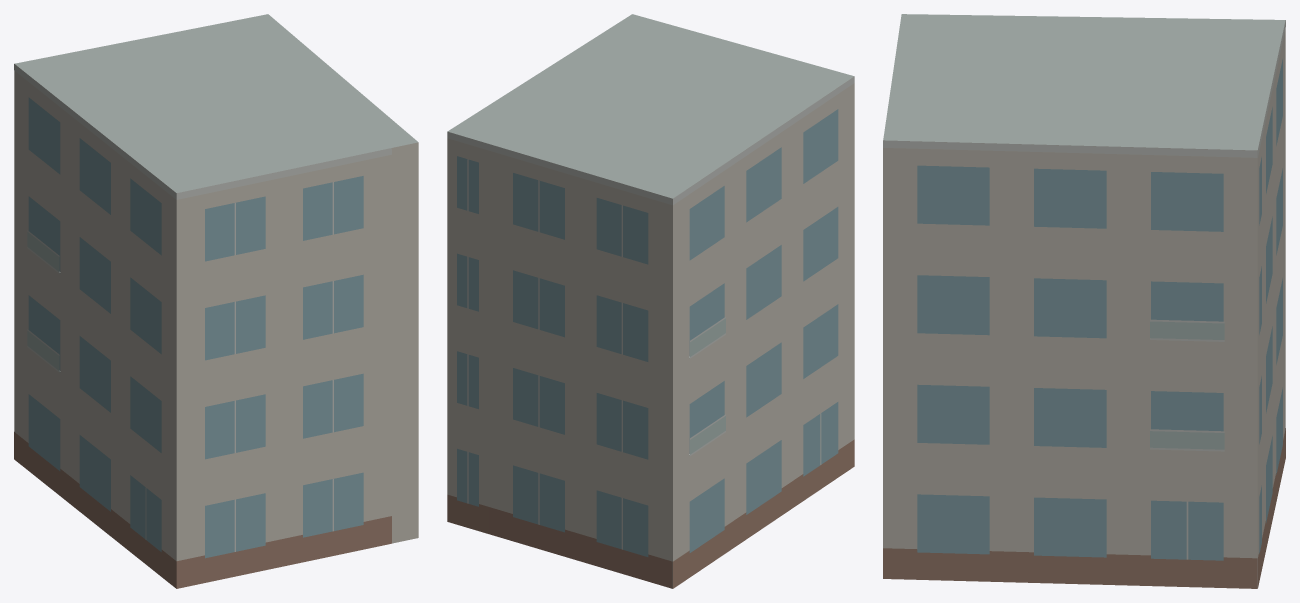
File: survey-upis-33023894.glb
The picture shows the model from 3 angles, left to right: view 1: azimuth 30°, elevation 25°; view 2: azimuth 150°, elevation 25°; view 3: azimuth 270°, elevation 25°; orthographic projection. The views are drawn at different scales.
Visible parts, largest first — view 1: survey-upis-33023894.tmp; view 2: survey-upis-33023894.tmp; view 3: survey-upis-33023894.tmp.
Boxes of the visible parts, x1,y1,x2,y2 form: survey-upis-33023894.tmp: (14,14,418,588); survey-upis-33023894.tmp: (447,14,854,588); survey-upis-33023894.tmp: (883,14,1285,588).
Bounding box in the file's own units: 9.55 × 14.3 × 11.9.
